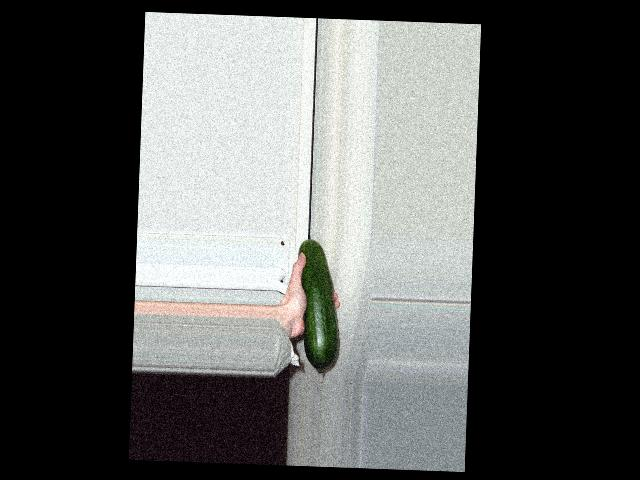cucumber: (294, 238, 343, 374)
